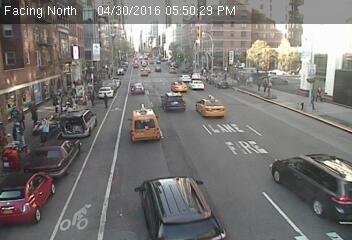neg: (102, 62, 115, 79), (116, 46, 122, 55), (142, 59, 146, 65)
pos: (36, 118, 51, 139), (7, 122, 21, 140), (27, 100, 40, 118), (315, 85, 328, 102), (260, 76, 272, 92), (99, 92, 111, 108), (49, 95, 61, 111), (16, 106, 27, 120), (8, 106, 18, 120), (71, 88, 77, 96)
